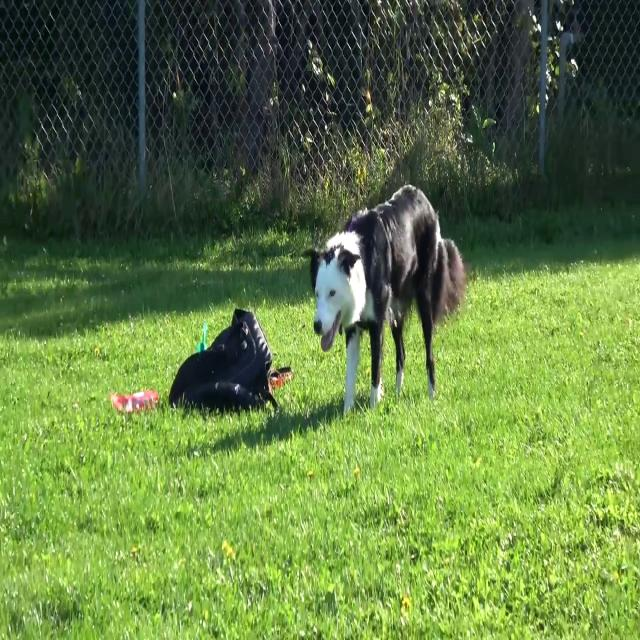Dog: (302, 185, 466, 418)
